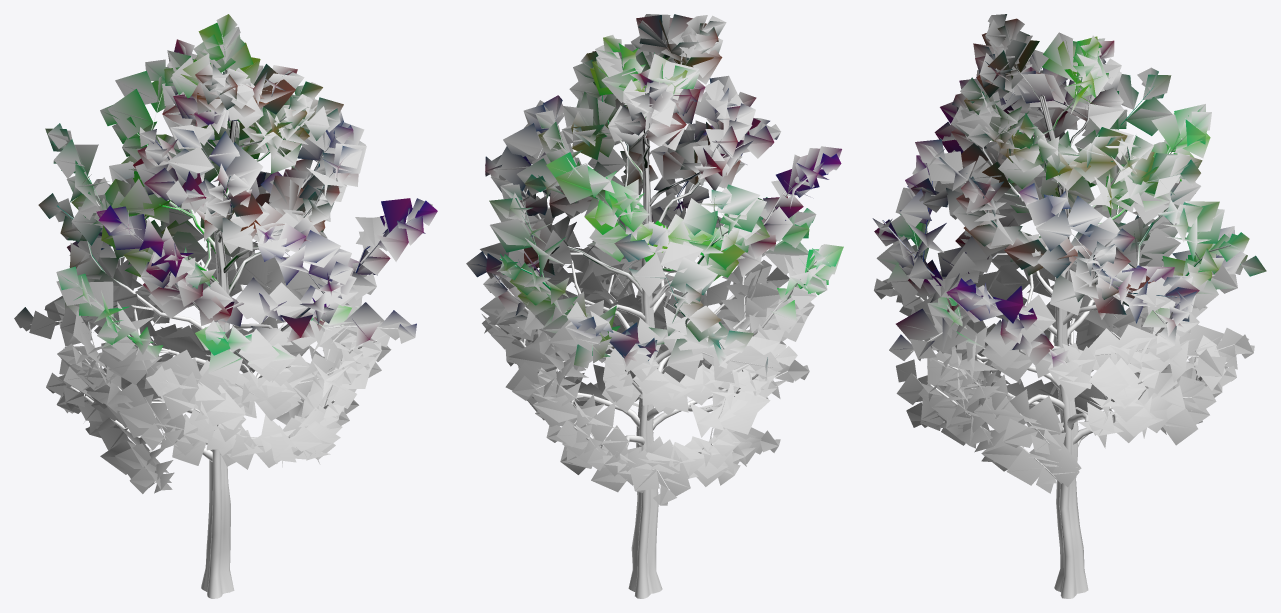
Rendered from SM_FLTree_06.FBX.
The picture shows the model from 3 angles, left to right: view 1: azimuth 30°, elevation 25°; view 2: azimuth 150°, elevation 25°; view 3: azimuth 270°, elevation 25°; orthographic projection.
Visible parts, largest first — view 1: SM_FLTree_06_LOD0; view 2: SM_FLTree_06_LOD0; view 3: SM_FLTree_06_LOD0.
Part boxes in pixels (x1,y1,x2,y2): SM_FLTree_06_LOD0: (14,14,437,598); SM_FLTree_06_LOD0: (466,14,843,598); SM_FLTree_06_LOD0: (872,14,1266,598).
Size of what is drawn, in the model's own units: 627 by 613 by 963.
